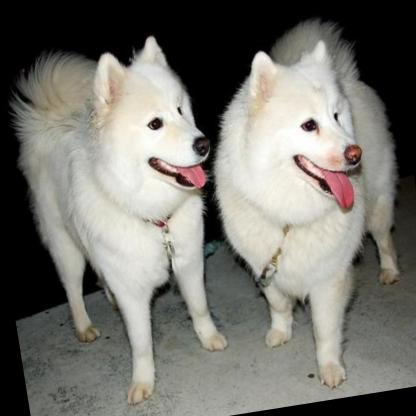Samoyed: (0, 28, 247, 416), (191, 10, 416, 398)
